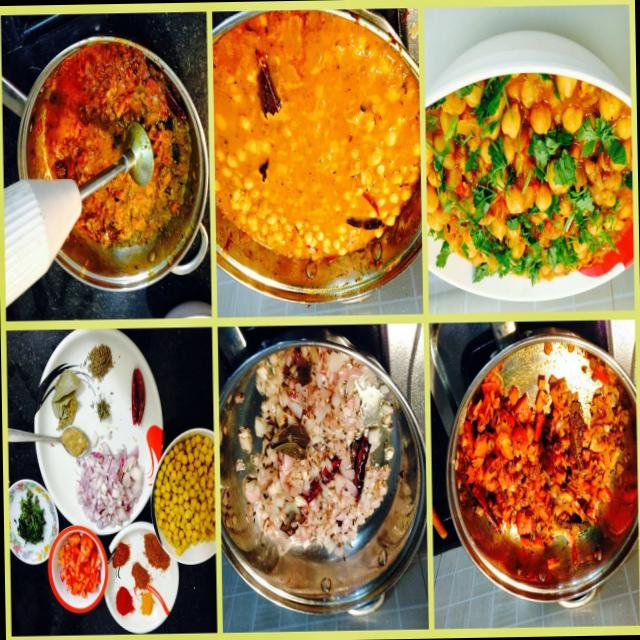Chole: (213, 8, 422, 261), (424, 71, 634, 280), (153, 434, 215, 556)
